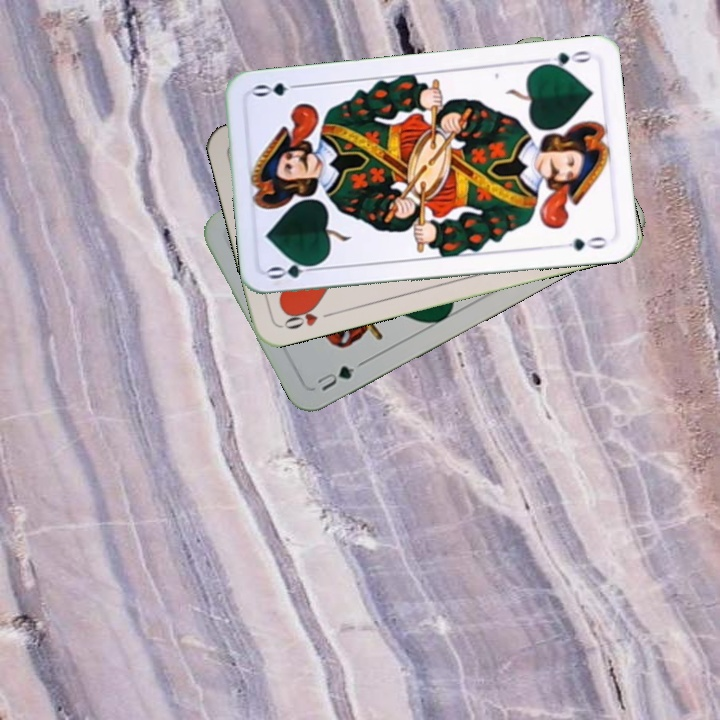GO: (535, 46, 594, 72), (264, 258, 324, 282)
GU: (313, 361, 358, 394)
HO: (278, 301, 336, 332)
